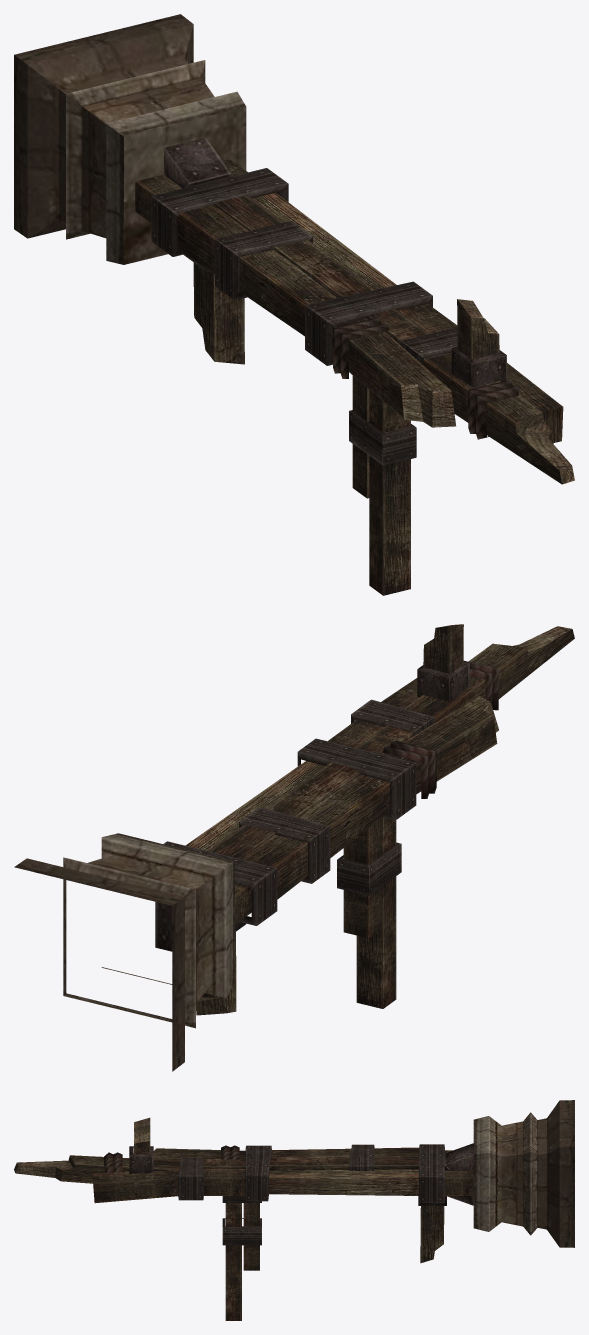
3 renders of one model, top to bottom at view 1: azimuth 30°, elevation 25°; view 2: azimuth 150°, elevation 25°; view 3: azimuth 270°, elevation 25°, orthographic. The views are drawn at different scales.
Parts seen in each view (by area): view 1: model_Object56; view 2: model_Object56; view 3: model_Object56.
Boxes of the visible parts, <box> form: model_Object56: <box>14,14,574,595</box>; model_Object56: <box>14,624,574,1071</box>; model_Object56: <box>14,1100,574,1320</box>.
Bounding box in the file's own units: 1.32 × 2.6 × 6.68.
4 materials, 4 textured.
